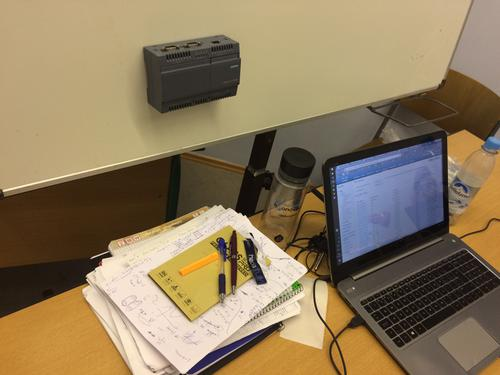iot2000: (143, 34, 243, 115)
